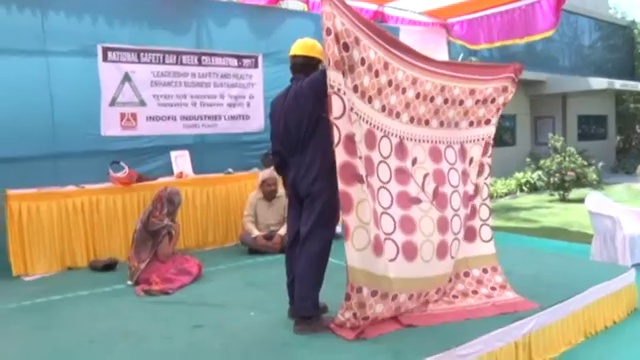helmet: (287, 35, 327, 65)
helmet_off: (153, 186, 182, 214), (258, 169, 280, 201)
helmet_on: (287, 35, 328, 81)
person: (270, 30, 344, 332), (126, 187, 203, 299), (233, 164, 295, 257)
